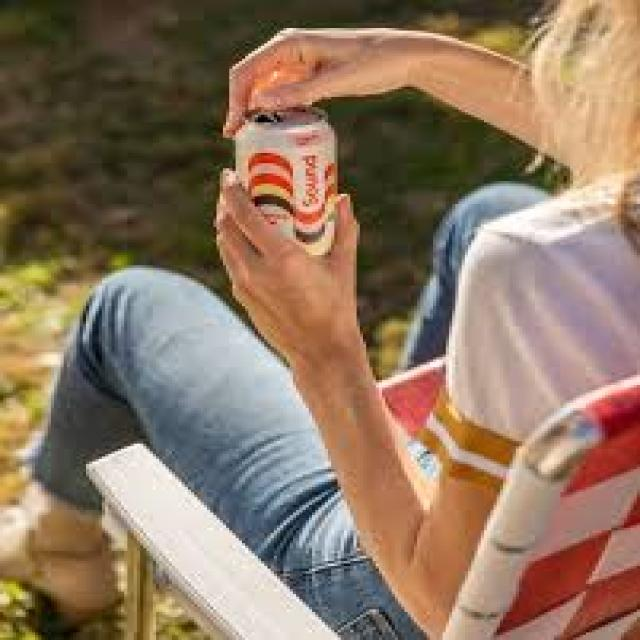Cans: (220, 105, 350, 258)
